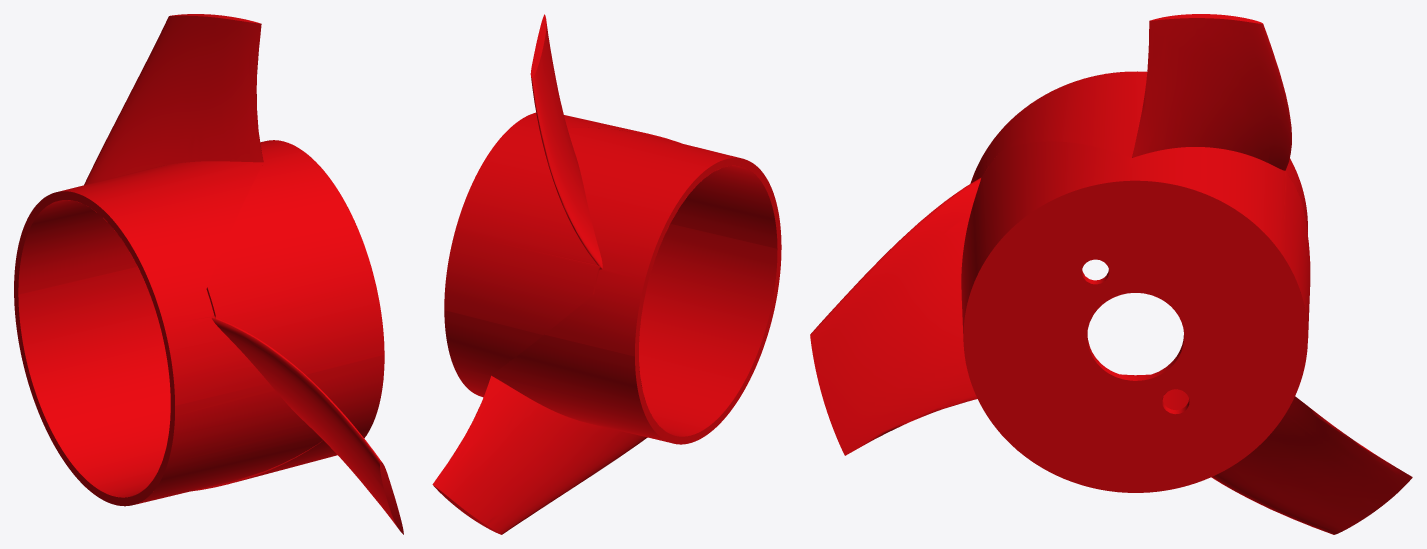
Rendered from horiz_red_propccw.dae.
3 renders of one model, left to right at view 1: azimuth 30°, elevation 25°; view 2: azimuth 150°, elevation 25°; view 3: azimuth 270°, elevation 25°, orthographic. The views are drawn at different scales.
Visible parts, largest first — view 1: PropCCW; view 2: PropCCW; view 3: PropCCW.
Part boxes in pixels (left/top/right/bottom): PropCCW: left=14, top=14, right=403, bottom=534; PropCCW: left=432, top=14, right=781, bottom=534; PropCCW: left=810, top=14, right=1412, bottom=534.
Size of the model in its own units: 0.051 by 0.119 by 0.1164.
